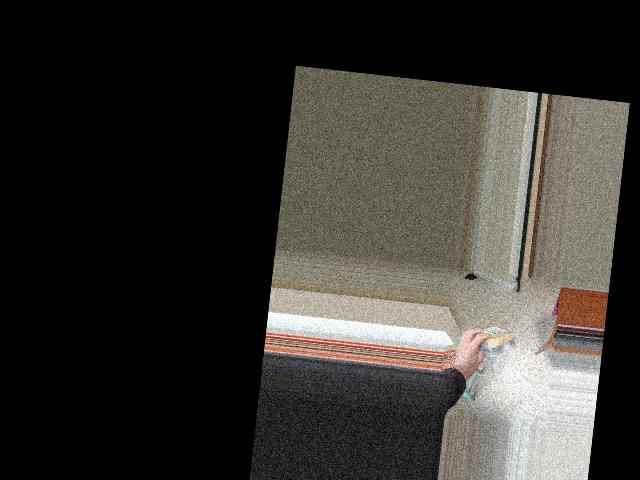cheese: (463, 320, 519, 358)
